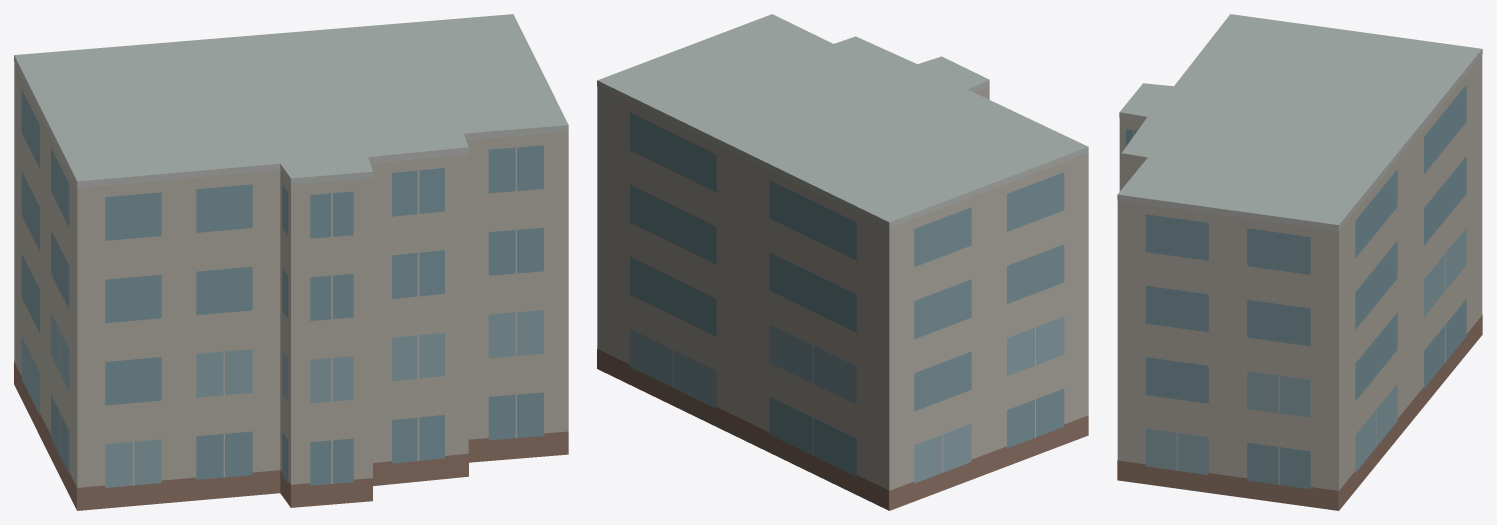
Rendered from survey-upis-32875836.glb.
The picture shows the model from 3 angles, left to right: view 1: azimuth 30°, elevation 25°; view 2: azimuth 150°, elevation 25°; view 3: azimuth 270°, elevation 25°; orthographic projection. The views are drawn at different scales.
Parts seen in each view (by area): view 1: survey-upis-32875836.tmp; view 2: survey-upis-32875836.tmp; view 3: survey-upis-32875836.tmp.
Boxes of the visible parts, x1=… form: survey-upis-32875836.tmp: x1=14, y1=14, x2=568, y2=510; survey-upis-32875836.tmp: x1=597, y1=14, x2=1088, y2=510; survey-upis-32875836.tmp: x1=1117, y1=14, x2=1482, y2=510.
Size of the model in its own units: 18.7 by 11.8 by 13.67.
